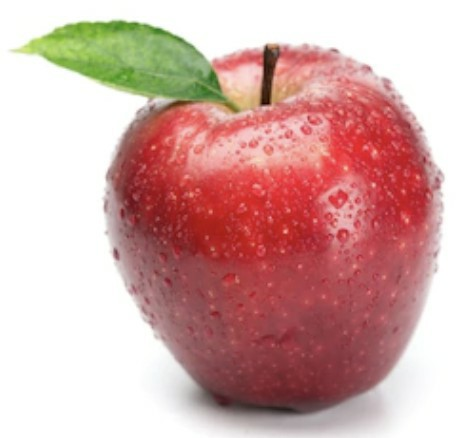fresh_apple: (104, 39, 445, 415)
